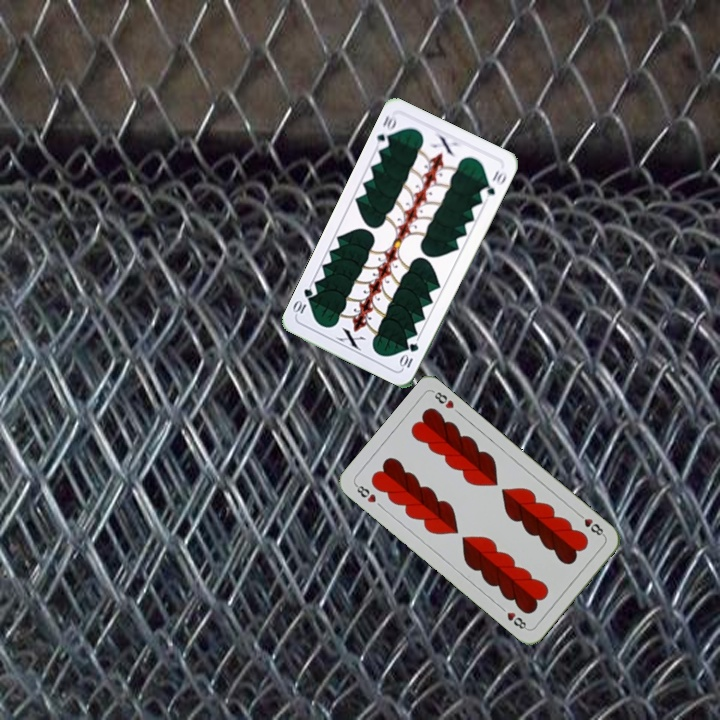G10: (373, 111, 399, 152), (396, 339, 421, 372)
H8: (573, 509, 607, 539), (351, 480, 379, 505)
